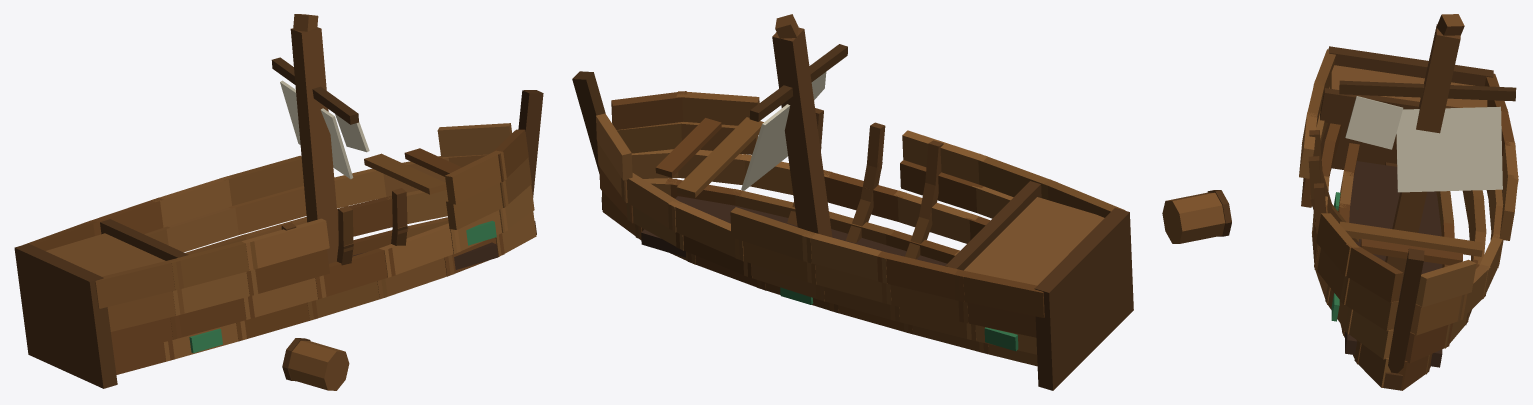
The model's file is shipwreck.glb.
3 views of the same model, side by side, from view 1: azimuth 30°, elevation 25°; view 2: azimuth 150°, elevation 25°; view 3: azimuth 270°, elevation 25° (orthographic). The views are drawn at different scales.
Visible parts, largest first — view 1: shipwreck; view 2: shipwreck; view 3: shipwreck.
Part boxes in pixels (left/top/right/bottom): shipwreck: left=14, top=14, right=543, bottom=390; shipwreck: left=572, top=14, right=1133, bottom=390; shipwreck: left=1162, top=14, right=1518, bottom=390.
Size of the model in its own units: 6.97 by 3.87 by 4.07.
